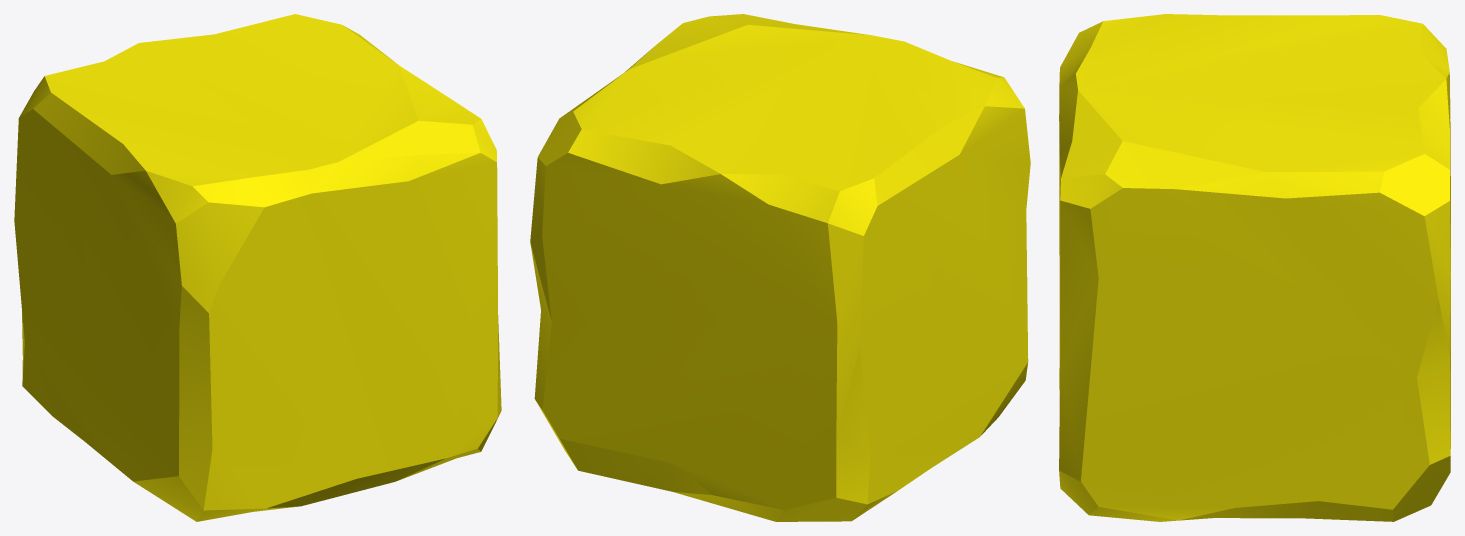
File: bloque brillante.fbx
3 views of the same model, side by side, from view 1: azimuth 30°, elevation 25°; view 2: azimuth 150°, elevation 25°; view 3: azimuth 270°, elevation 25° (orthographic). The views are drawn at different scales.
Parts seen in each view (by area): view 1: Cube.001; view 2: Cube.001; view 3: Cube.001.
Part boxes in pixels (box(x1,y1,x2,y2)): Cube.001: box(14, 14, 501, 521); Cube.001: box(530, 14, 1030, 521); Cube.001: box(1059, 14, 1450, 521).
Size of the model in its own units: 206 by 206 by 206.
